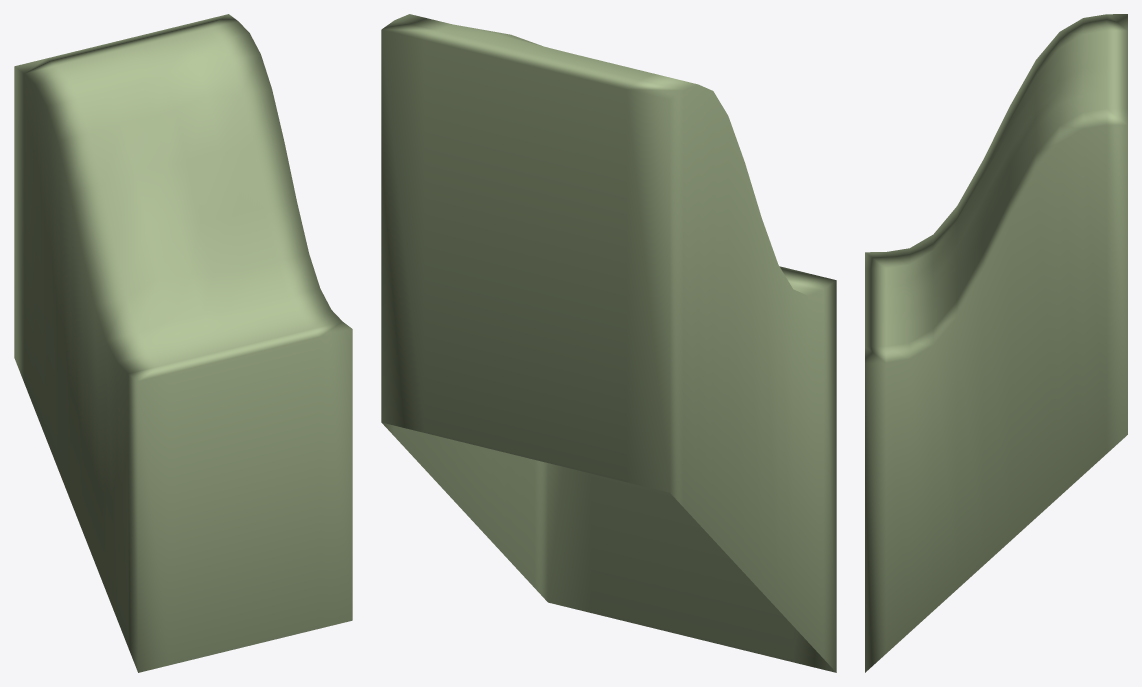
File: ground-ramp-21.glb
3 views of the same model, side by side, from view 1: azimuth 30°, elevation 25°; view 2: azimuth 150°, elevation 25°; view 3: azimuth 270°, elevation 25° (orthographic). The views are drawn at different scales.
Parts seen in each view (by area): view 1: ground-ramp-21; view 2: ground-ramp-21; view 3: ground-ramp-21.
Part boxes in pixels (x1,y1,x2,y2): ground-ramp-21: (14, 14, 352, 672); ground-ramp-21: (381, 14, 836, 672); ground-ramp-21: (865, 14, 1127, 672).
Size of the model in its own units: 1 by 2.3 by 1.
